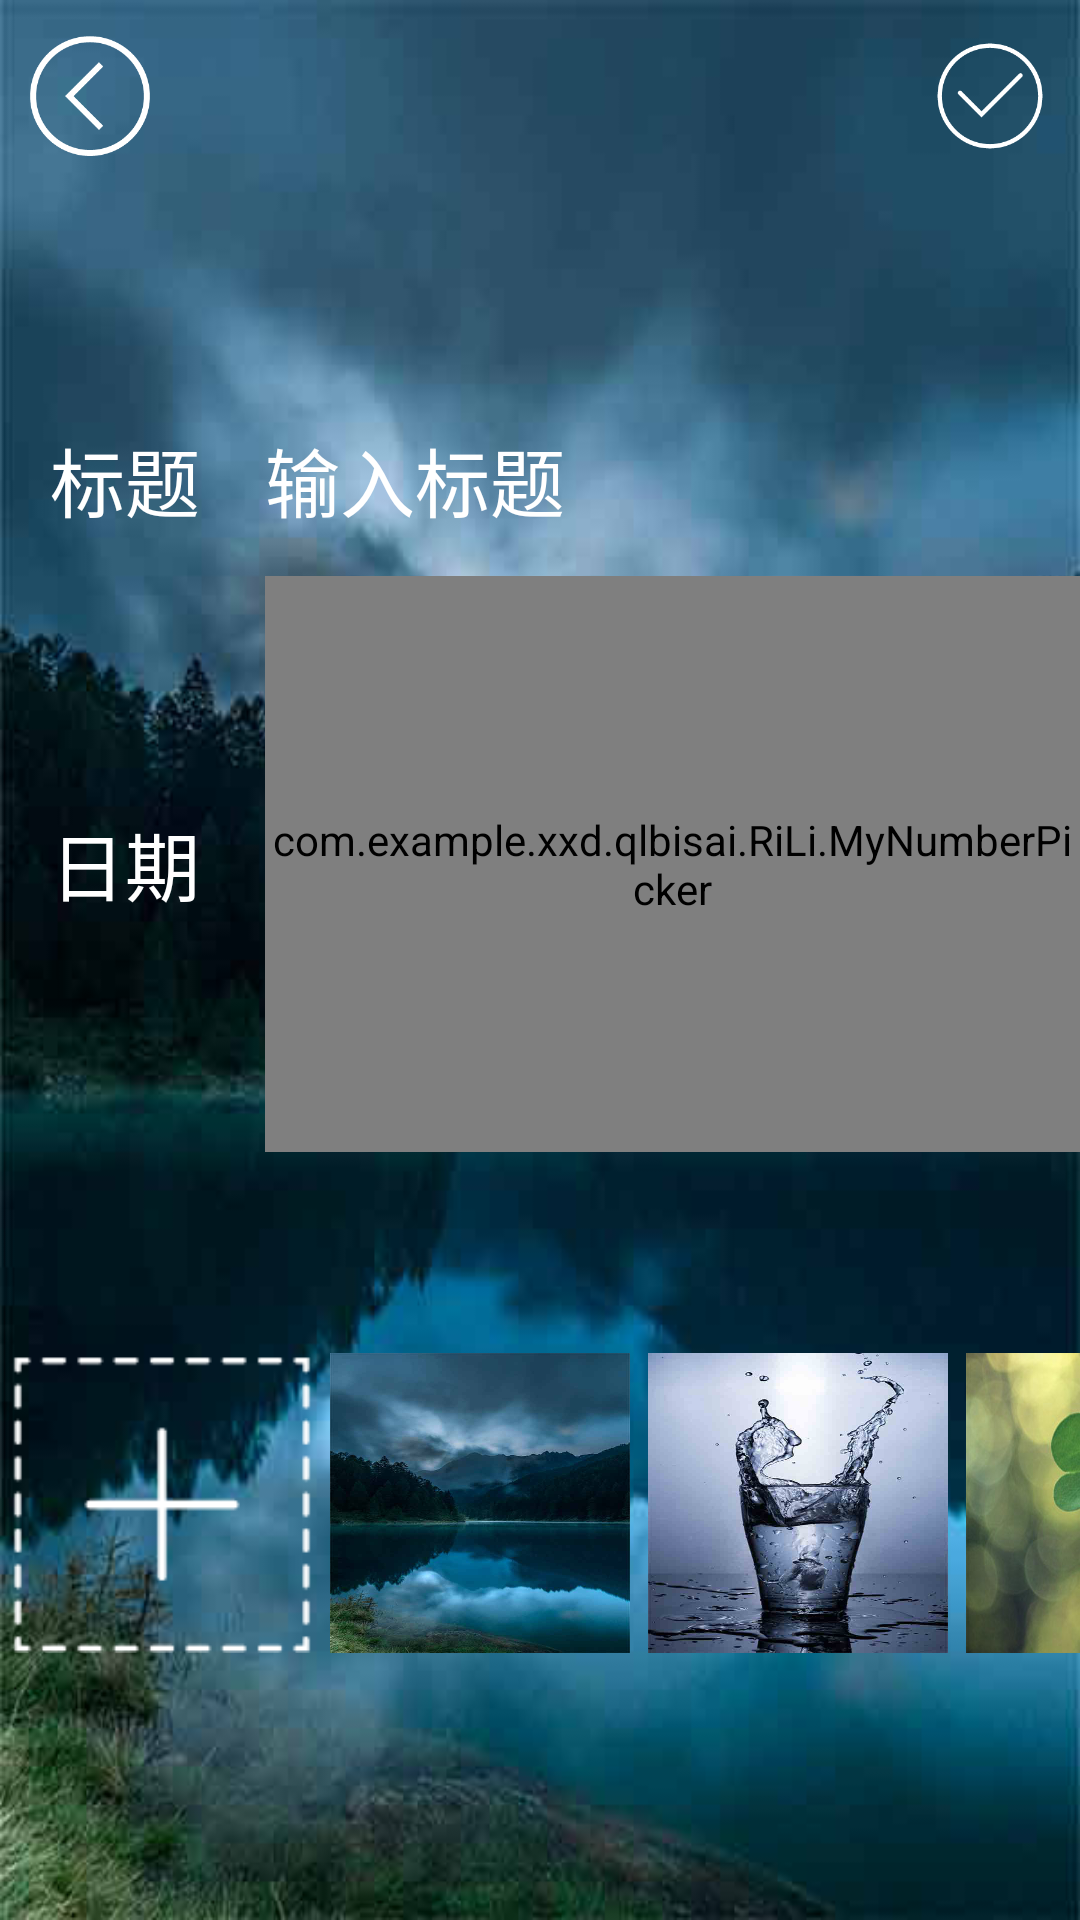

Icons on this 1080w x 1920h Android screen, each with the point to tap as (x=x, y=y):
add bbb: (x=162, y=1503)
back jnr: (x=90, y=96)
gou jnr: (x=990, y=96)
